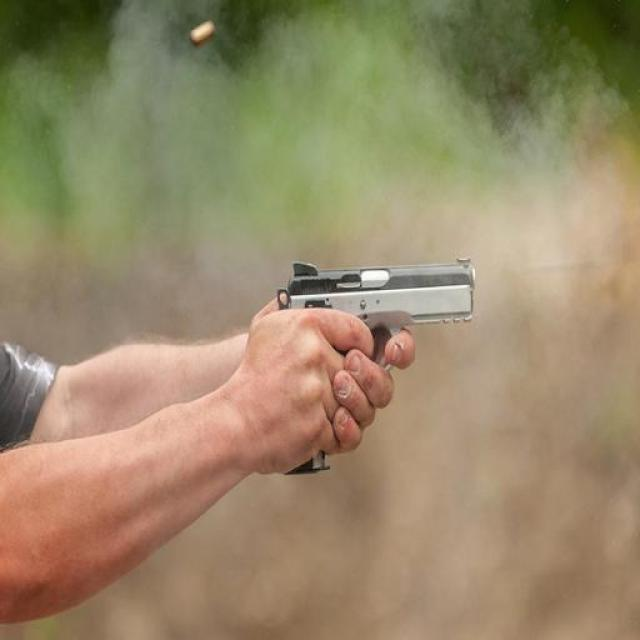pistol: (275, 253, 481, 474)
